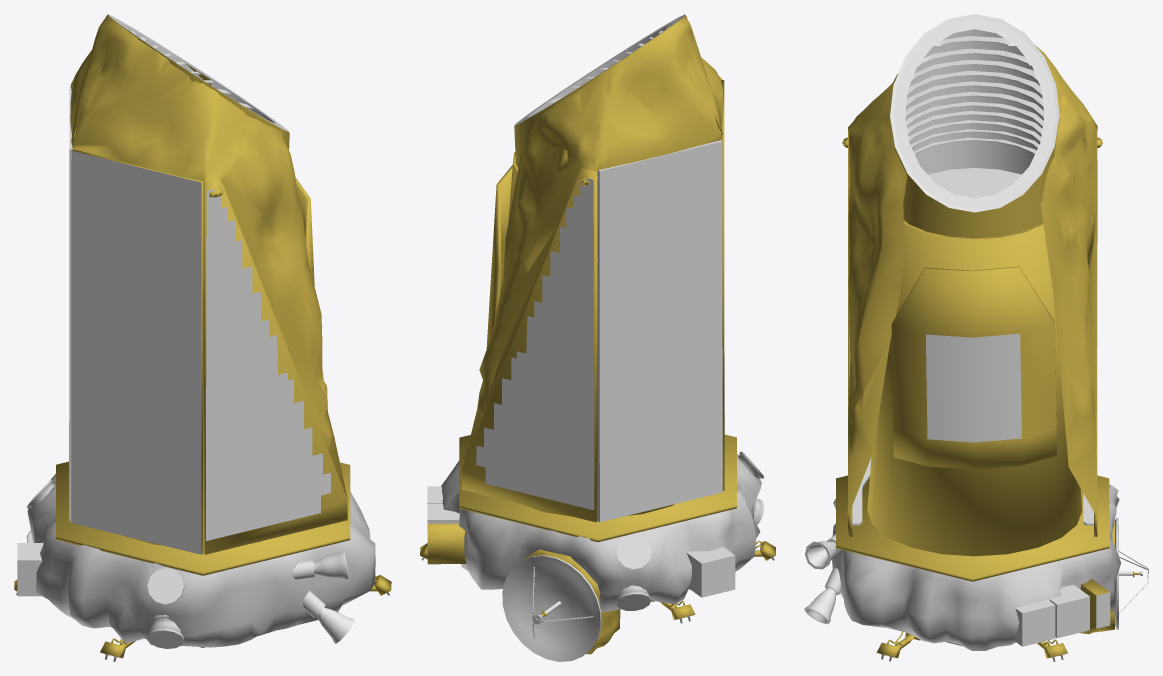
File: kepler.fbx
3 views of the same model, side by side, from view 1: azimuth 30°, elevation 25°; view 2: azimuth 150°, elevation 25°; view 3: azimuth 270°, elevation 25° (orthographic). The views are drawn at different scales.
Parts seen in each view (by area): view 1: Kepler; view 2: Kepler; view 3: Kepler.
Part boxes in pixels (x1,y1,x2,y2): Kepler: (14,14,391,661); Kepler: (420,14,775,661); Kepler: (804,14,1148,661).
Size of the model in its own units: 265 by 501 by 266.
